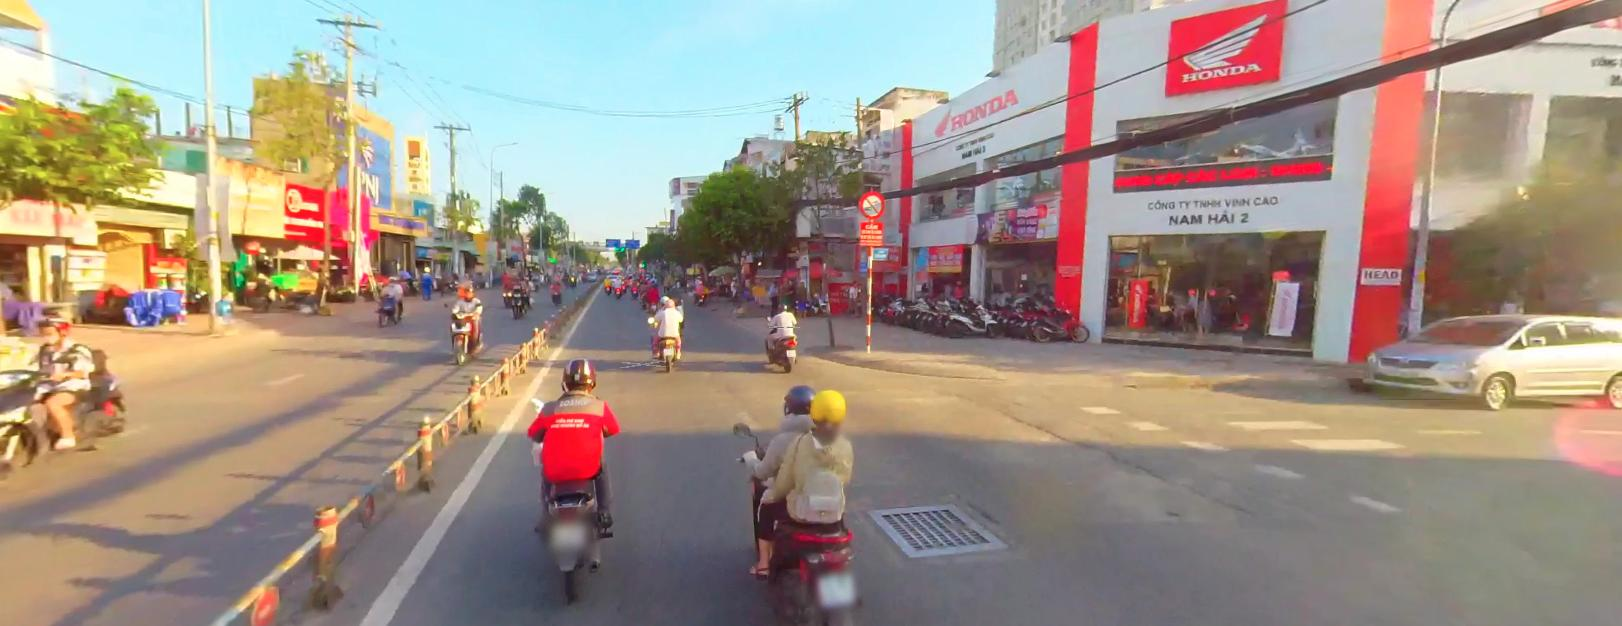Cam con lai: (858, 189, 885, 218)
